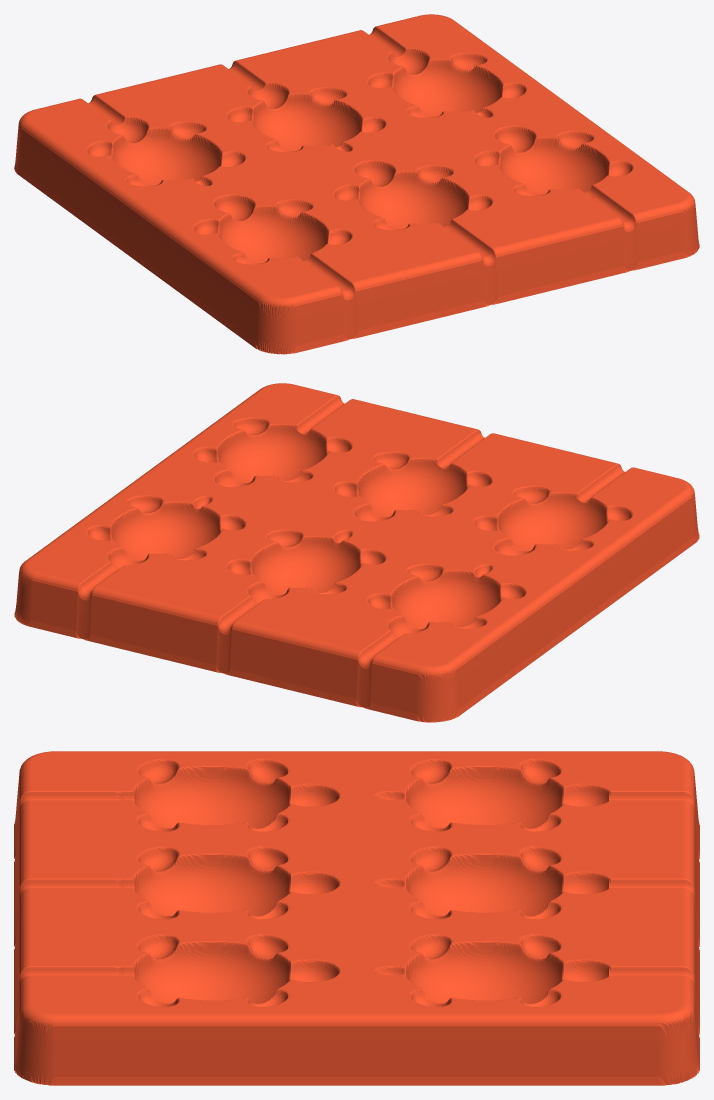
The model's file is mold.glb.
The picture shows the model from 3 angles, top to bottom: view 1: azimuth 30°, elevation 25°; view 2: azimuth 150°, elevation 25°; view 3: azimuth 270°, elevation 25°; orthographic projection. The views are drawn at different scales.
Visible parts, largest first — view 1: geometry_0; view 2: geometry_0; view 3: geometry_0.
Part boxes in pixels (x1,y1,x2,y2): geometry_0: (14, 14, 699, 354); geometry_0: (14, 383, 699, 722); geometry_0: (14, 751, 699, 1085).
Bounding box in the file's own units: 0.141 × 0.0155 × 0.1483.
